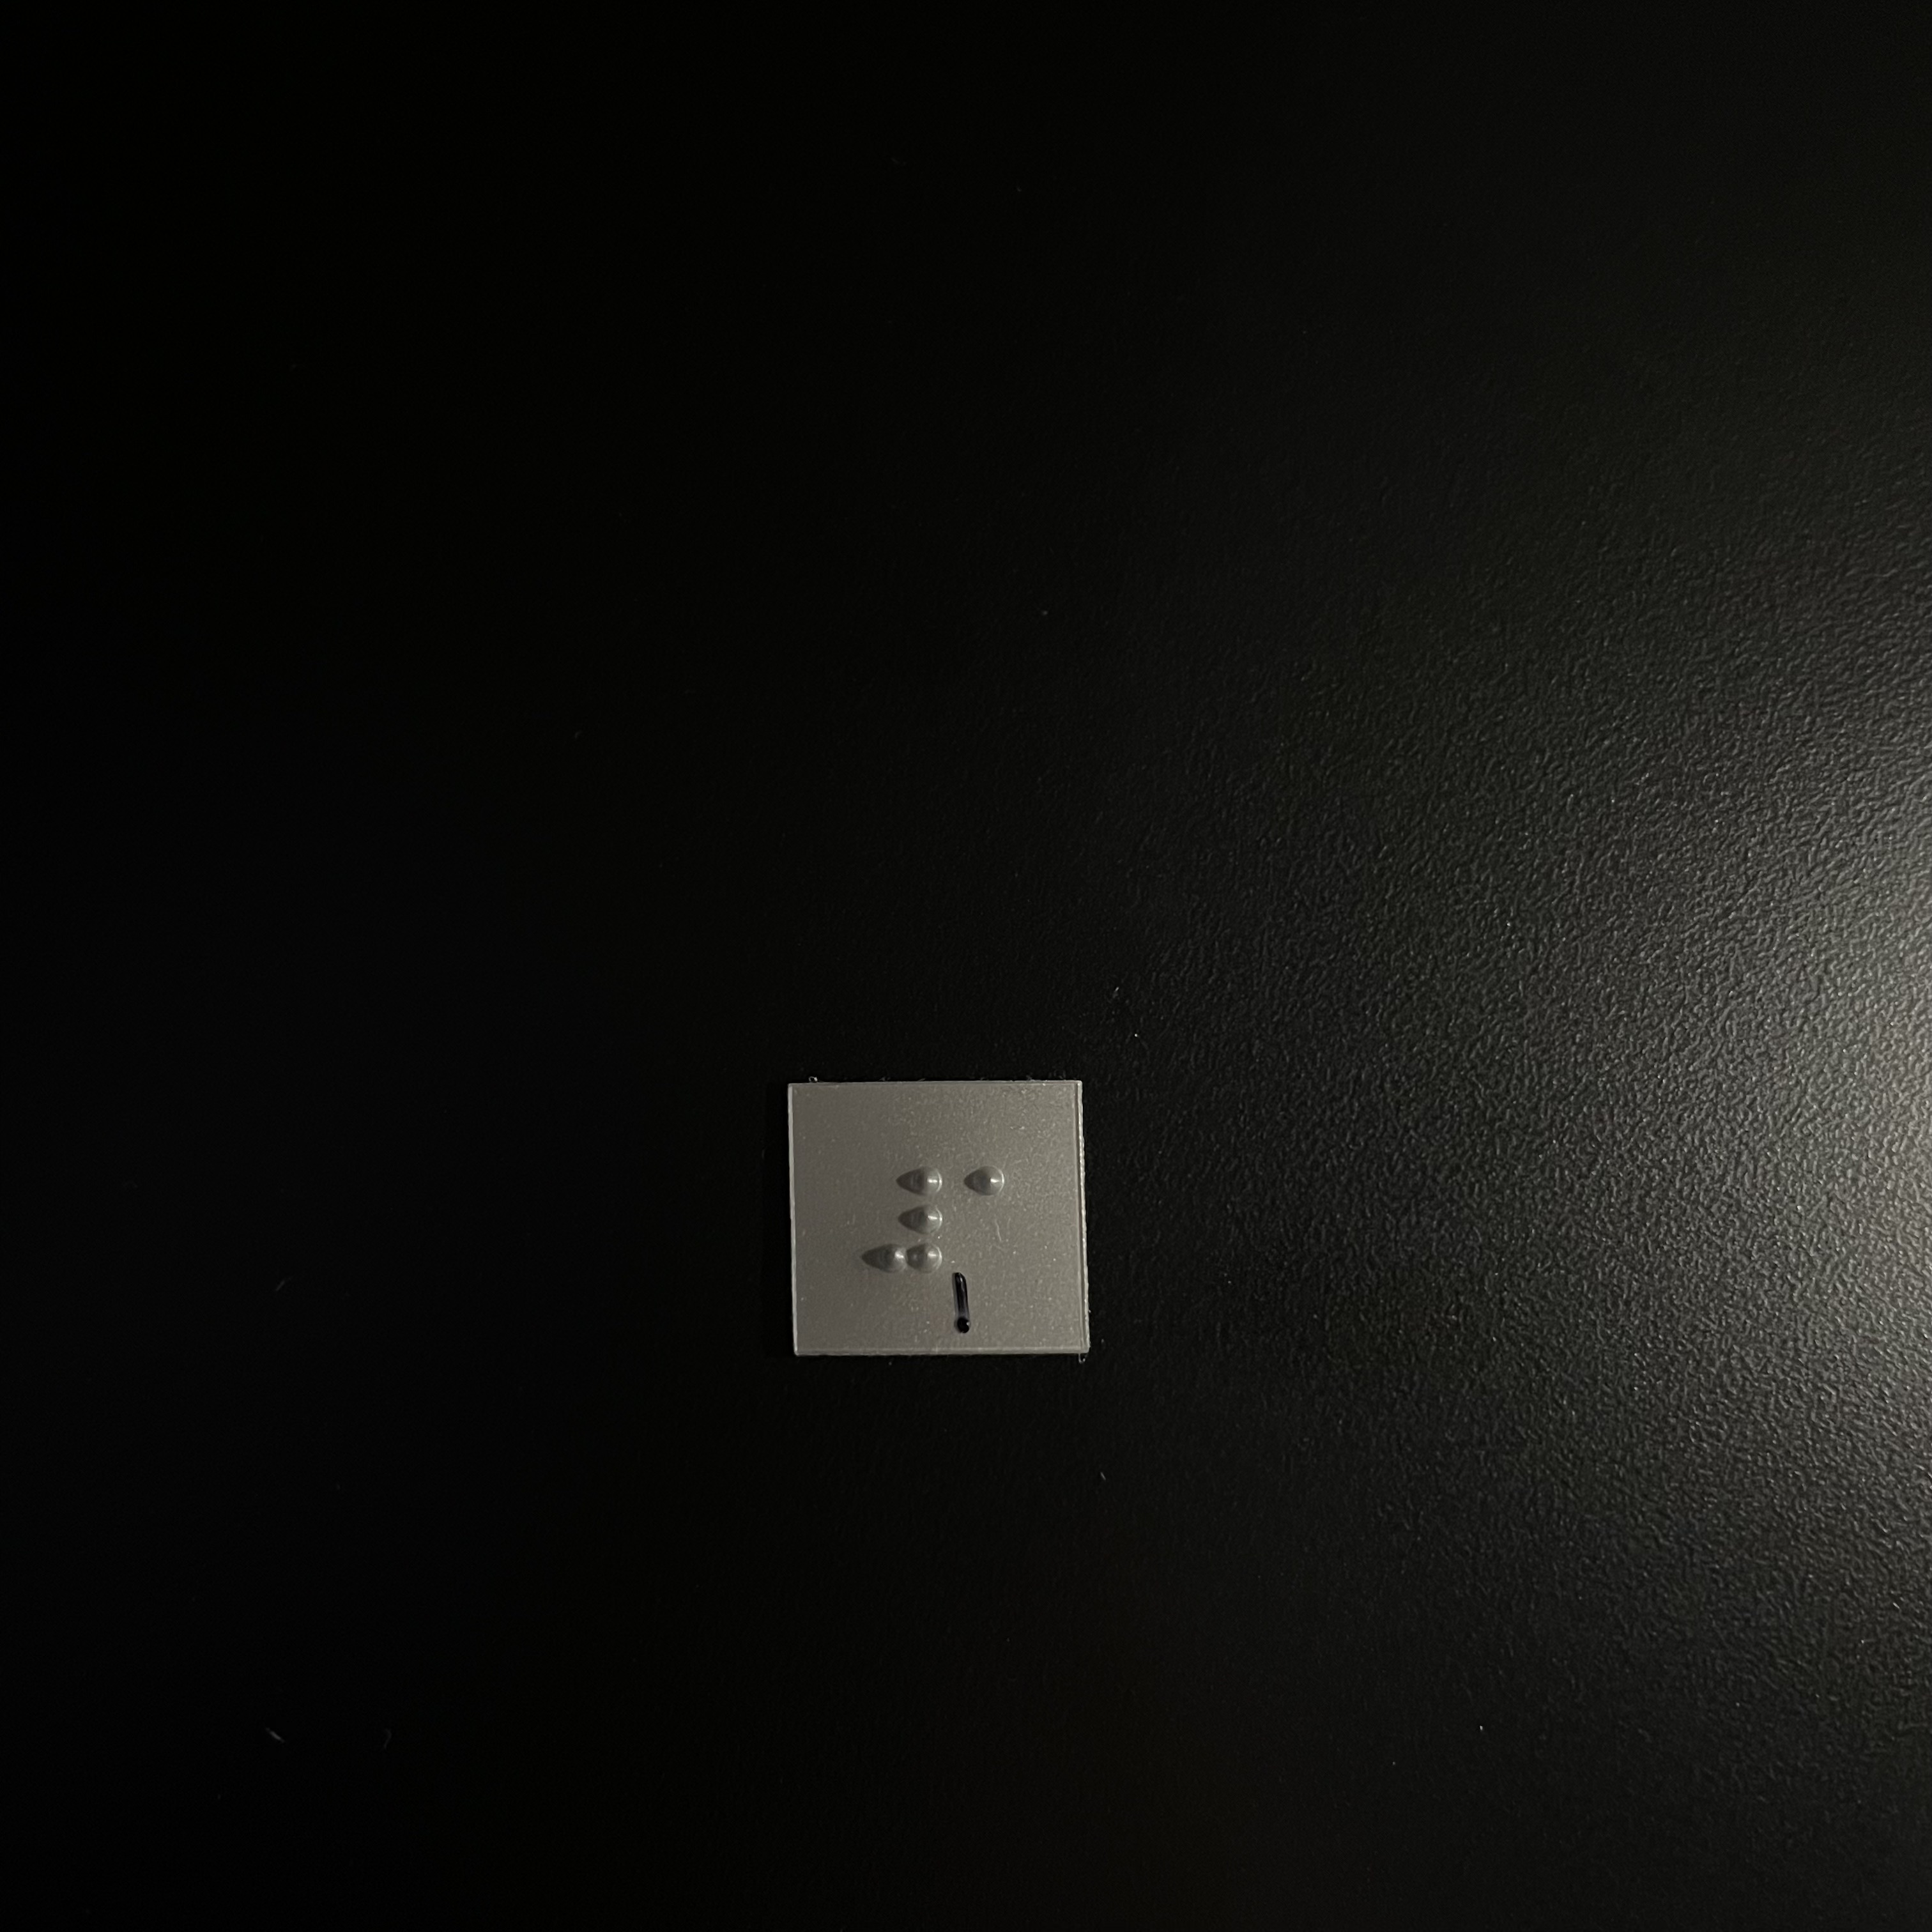#: (868, 1167, 947, 1280)
a: (963, 1167, 1040, 1278)
